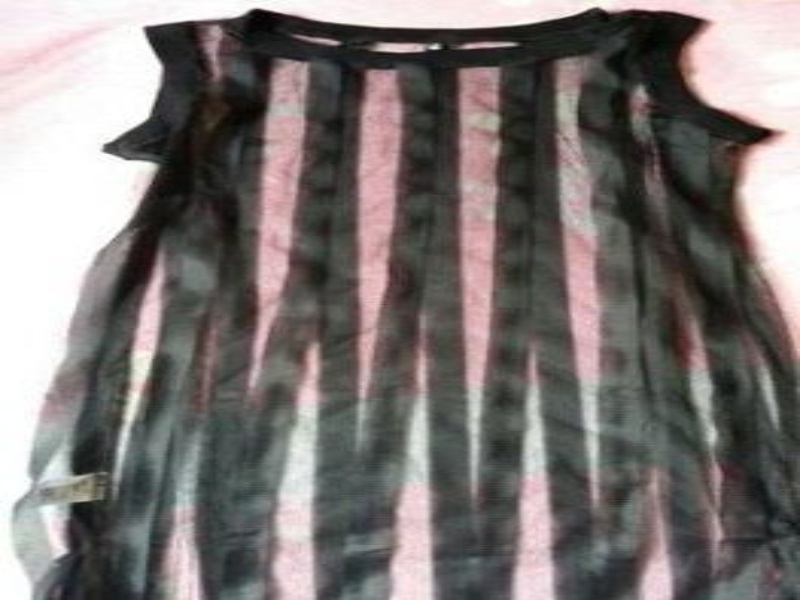vest_dress: (0, 6, 788, 599)
